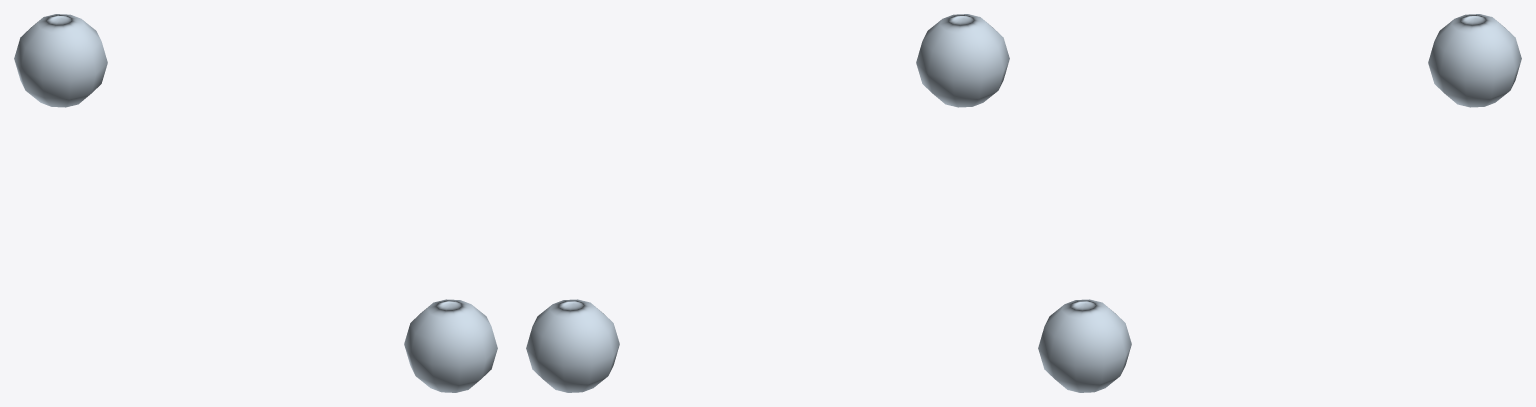
The model's file is 2073_Whale_WhaleEyeGlints.fbx.
3 views of the same model, side by side, from view 1: azimuth 30°, elevation 25°; view 2: azimuth 150°, elevation 25°; view 3: azimuth 330°, elevation 25° (orthographic).
Visible parts, largest first — view 1: PART_WhaleWaterEye_-1, PART_WhaleWaterEye_1; view 2: PART_WhaleWaterEye_-1, PART_WhaleWaterEye_1; view 3: PART_WhaleWaterEye_-1, PART_WhaleWaterEye_1.
Part boxes in pixels (<box>): PART_WhaleWaterEye_-1: <box>404,299,497,392</box>; PART_WhaleWaterEye_1: <box>14,14,107,107</box>; PART_WhaleWaterEye_-1: <box>916,14,1009,107</box>; PART_WhaleWaterEye_1: <box>526,299,619,392</box>; PART_WhaleWaterEye_-1: <box>1038,299,1131,392</box>; PART_WhaleWaterEye_1: <box>1428,14,1521,107</box>.
Bounding box in the file's own units: 10.4 × 10.4 × 95.89.
